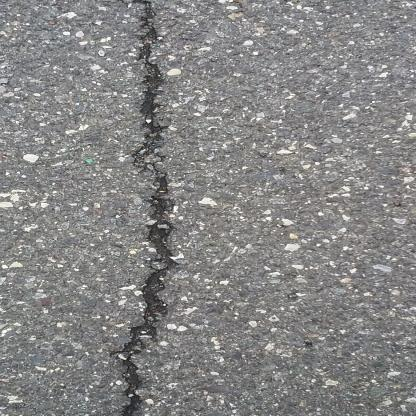Cracks: (41, 0, 174, 416)
